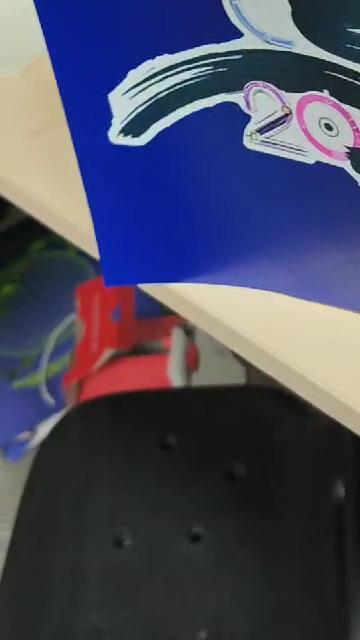B_R1: (102, 0, 360, 229)
